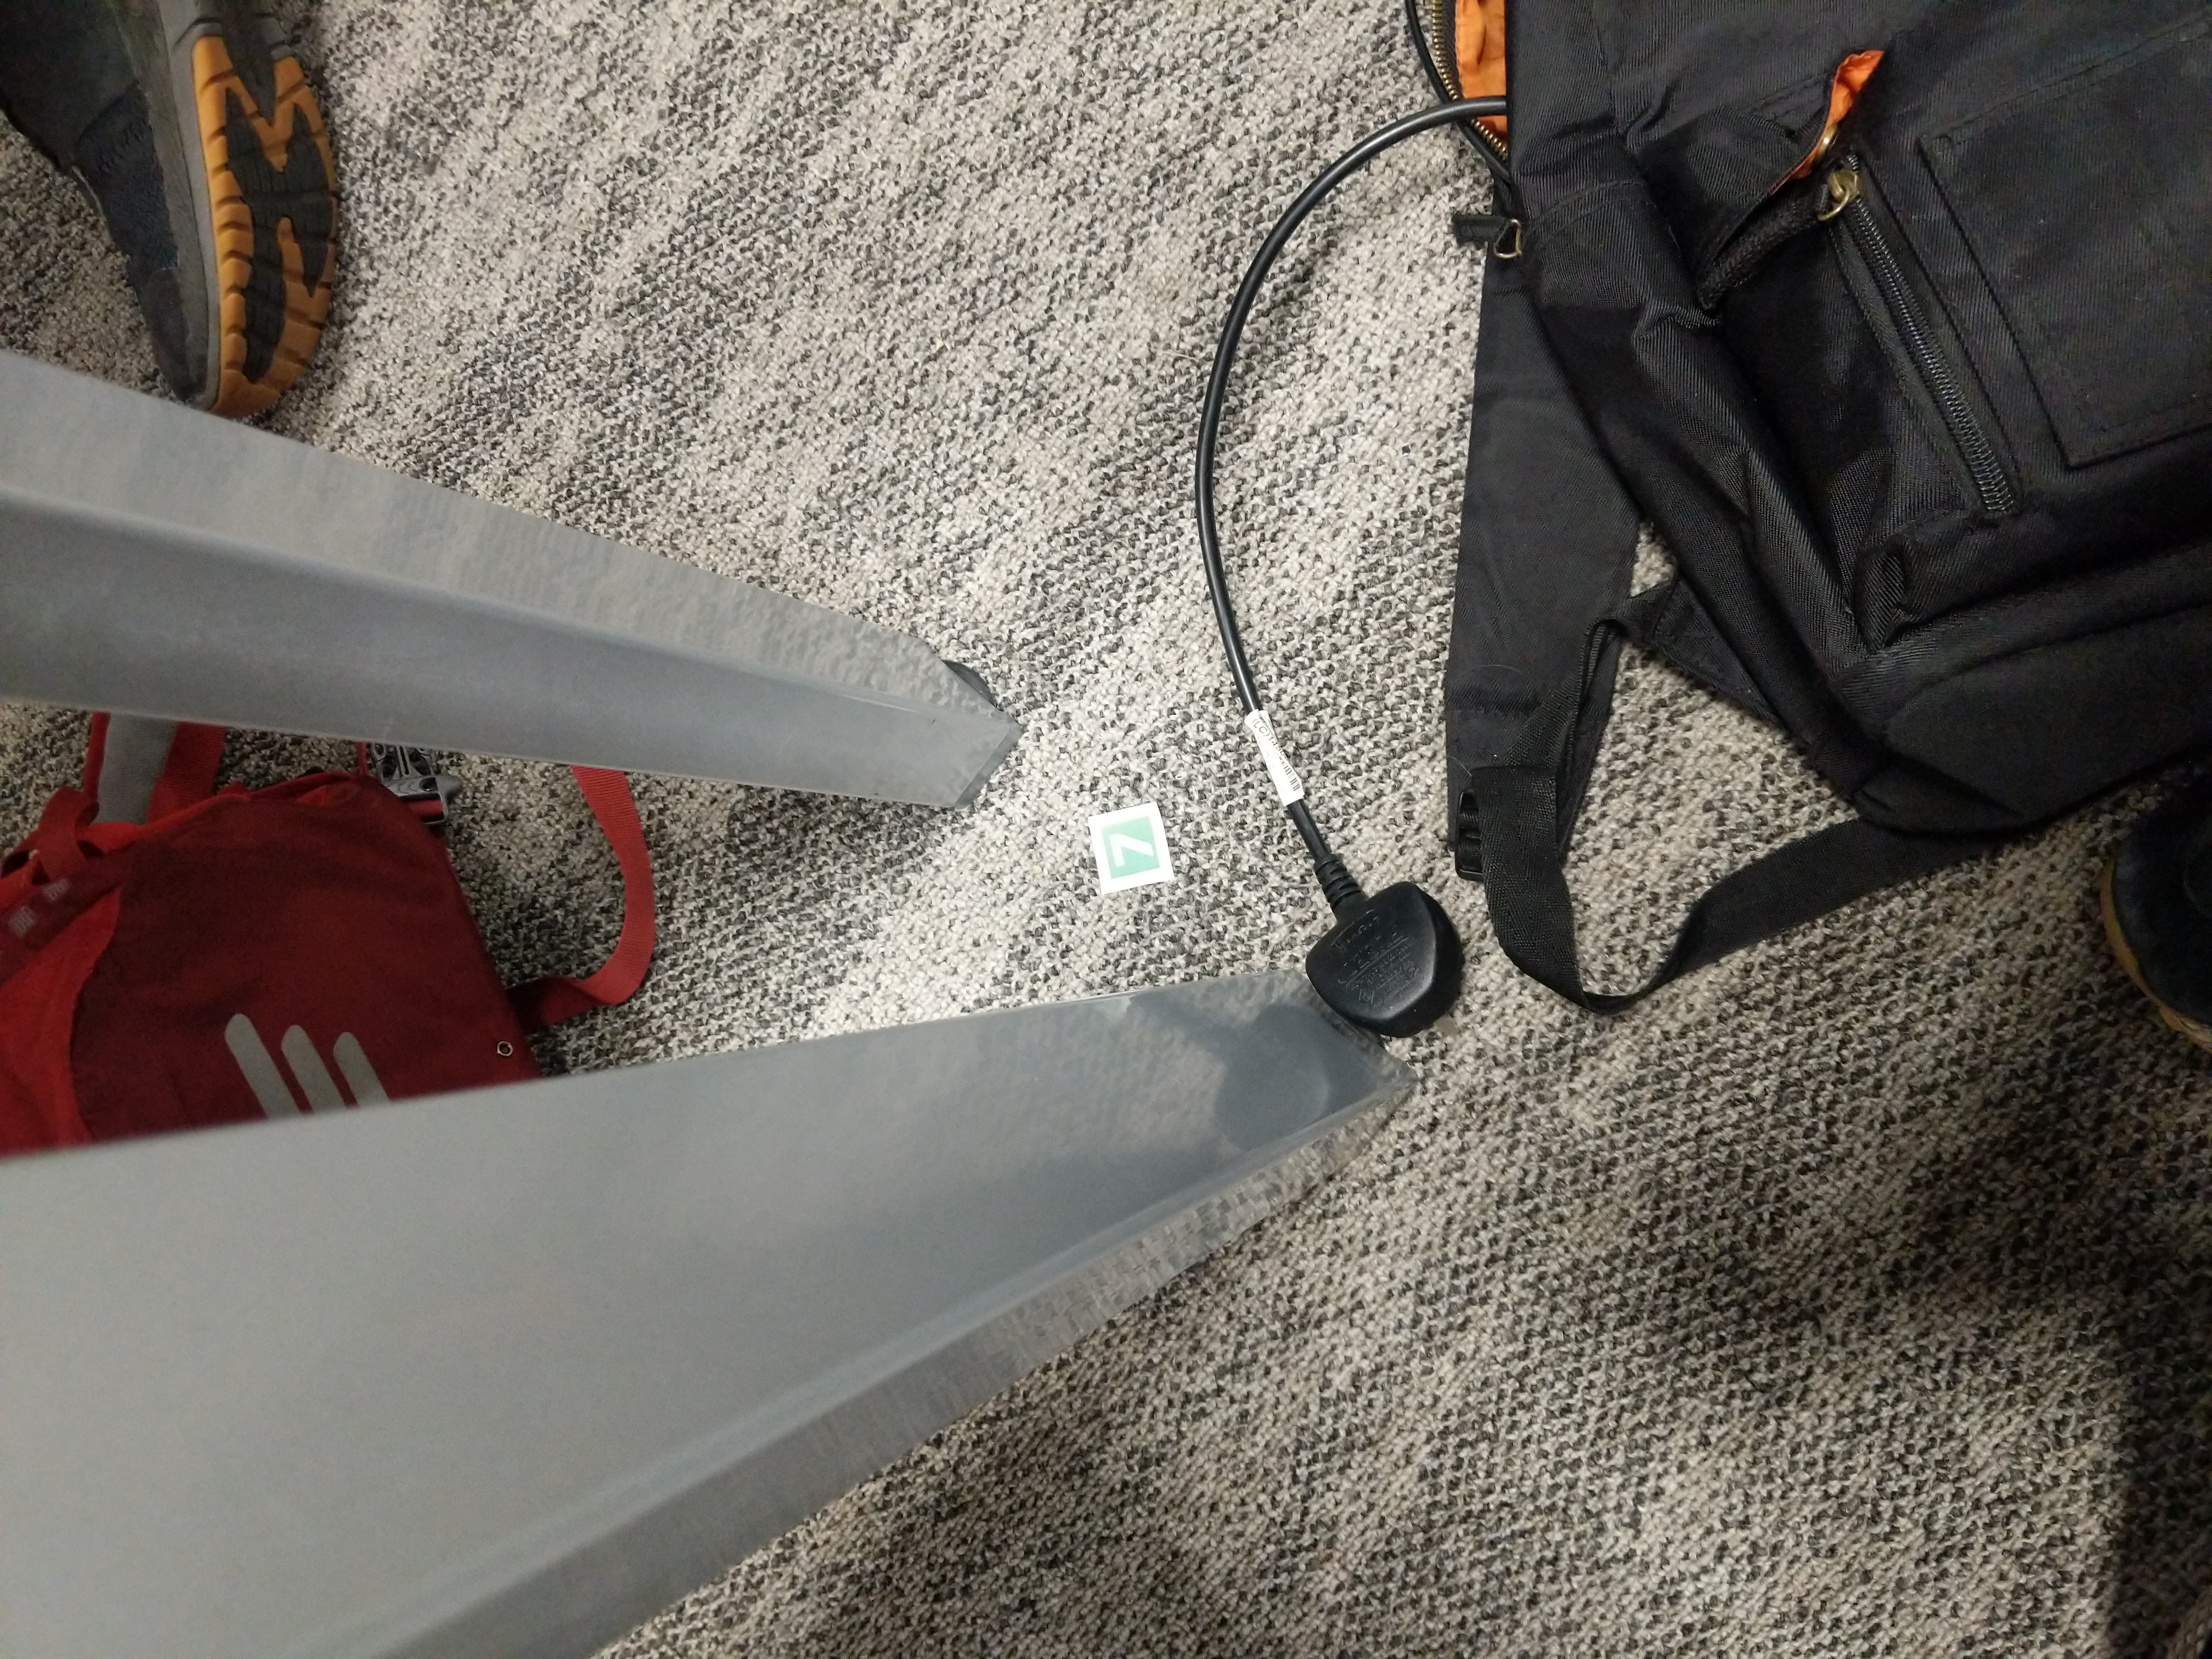marker: (1090, 795, 1176, 896)
